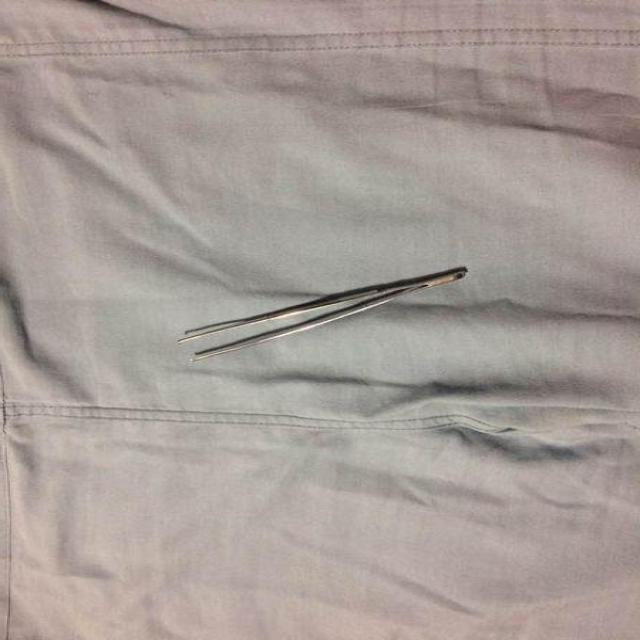Forceps: (179, 264, 472, 359)
